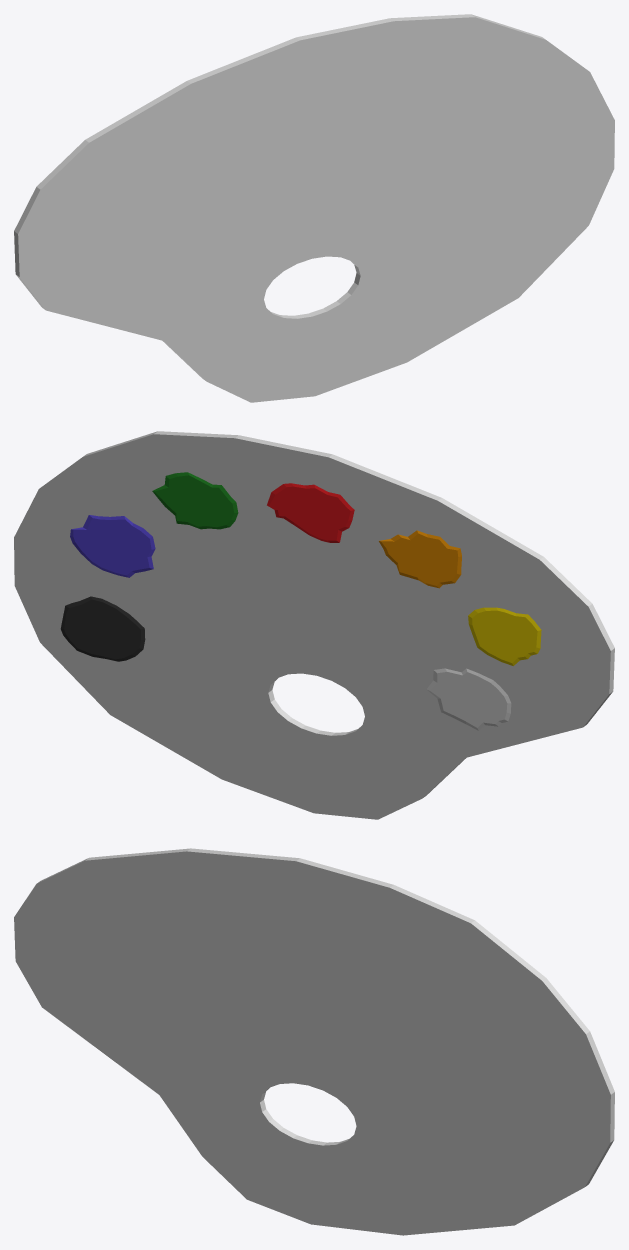
The model's file is paintpalette_color.fbx.
The picture shows the model from 3 angles, top to bottom: view 1: azimuth 30°, elevation 25°; view 2: azimuth 150°, elevation 25°; view 3: azimuth 330°, elevation 25°; orthographic projection.
Visible parts, largest first — view 1: palette; view 2: palette, black, blue, white, red, green, orange, yellow; view 3: palette.
Boxes of the visible parts, bbox=[...] form: palette: bbox=[14, 14, 614, 402]; palette: bbox=[14, 431, 614, 819]; black: bbox=[60, 596, 145, 661]; blue: bbox=[70, 515, 155, 577]; white: bbox=[426, 668, 511, 730]; red: bbox=[267, 483, 354, 542]; green: bbox=[152, 472, 238, 529]; orange: bbox=[379, 530, 461, 588]; yellow: bbox=[468, 607, 541, 665]; palette: bbox=[14, 848, 614, 1235].
Size of the model in its own units: 40.14 by 23.11 by 0.5319.
